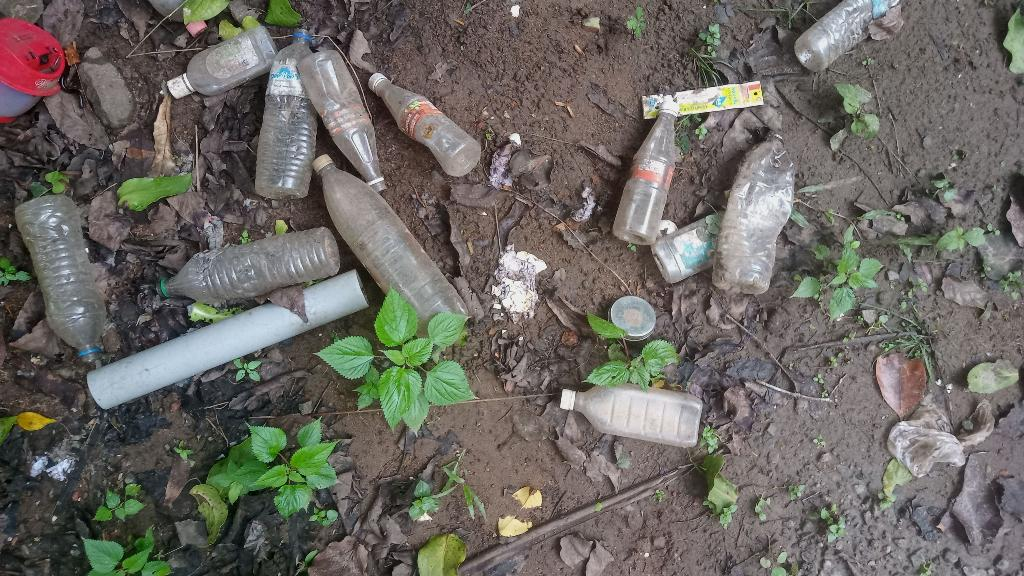garbage: (5, 191, 122, 358), (343, 135, 426, 358), (137, 226, 340, 300), (365, 61, 479, 182), (548, 368, 711, 451), (609, 70, 679, 246), (720, 125, 789, 303), (259, 30, 323, 197), (319, 42, 379, 202), (155, 28, 274, 103), (788, 10, 910, 78), (651, 213, 725, 285)
